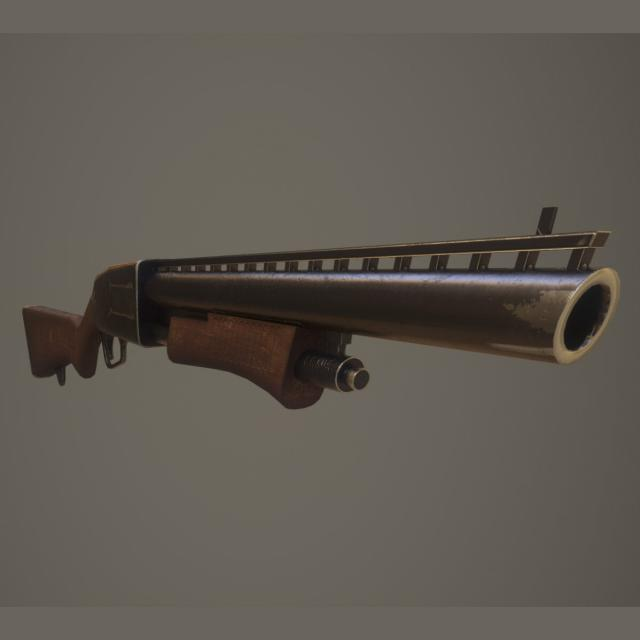ShotGun: (21, 208, 624, 413)
